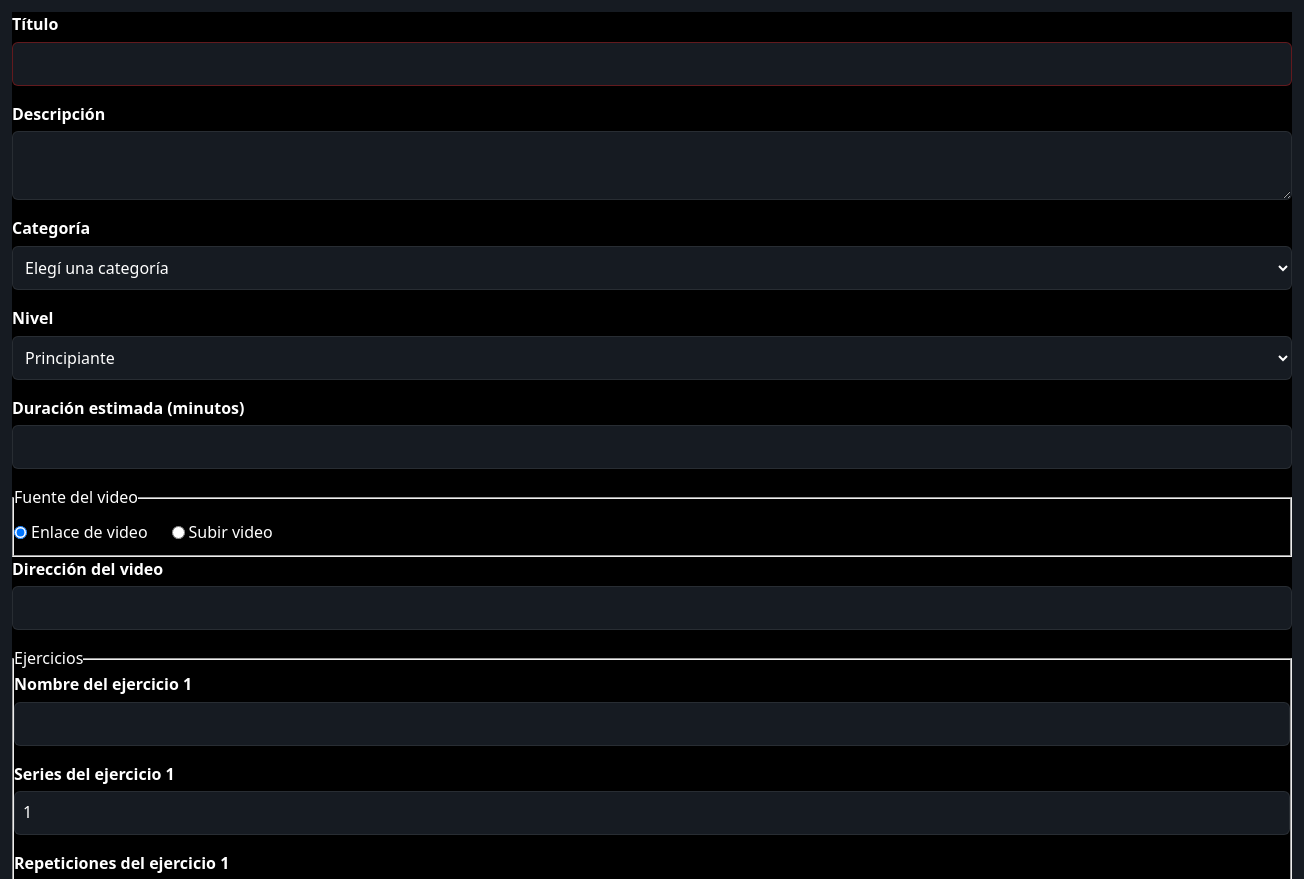
it: FormularioEntrenamiento › Dado el formulario en "Enlace de video" Cuando el Administrador elige "Subir video" Entonces presenta el control de subida y oculta el campo de enlace
Click the radio button labelled "Subir video" at x=178, y=533, box top-left (172, 526), bottom-right (185, 539)
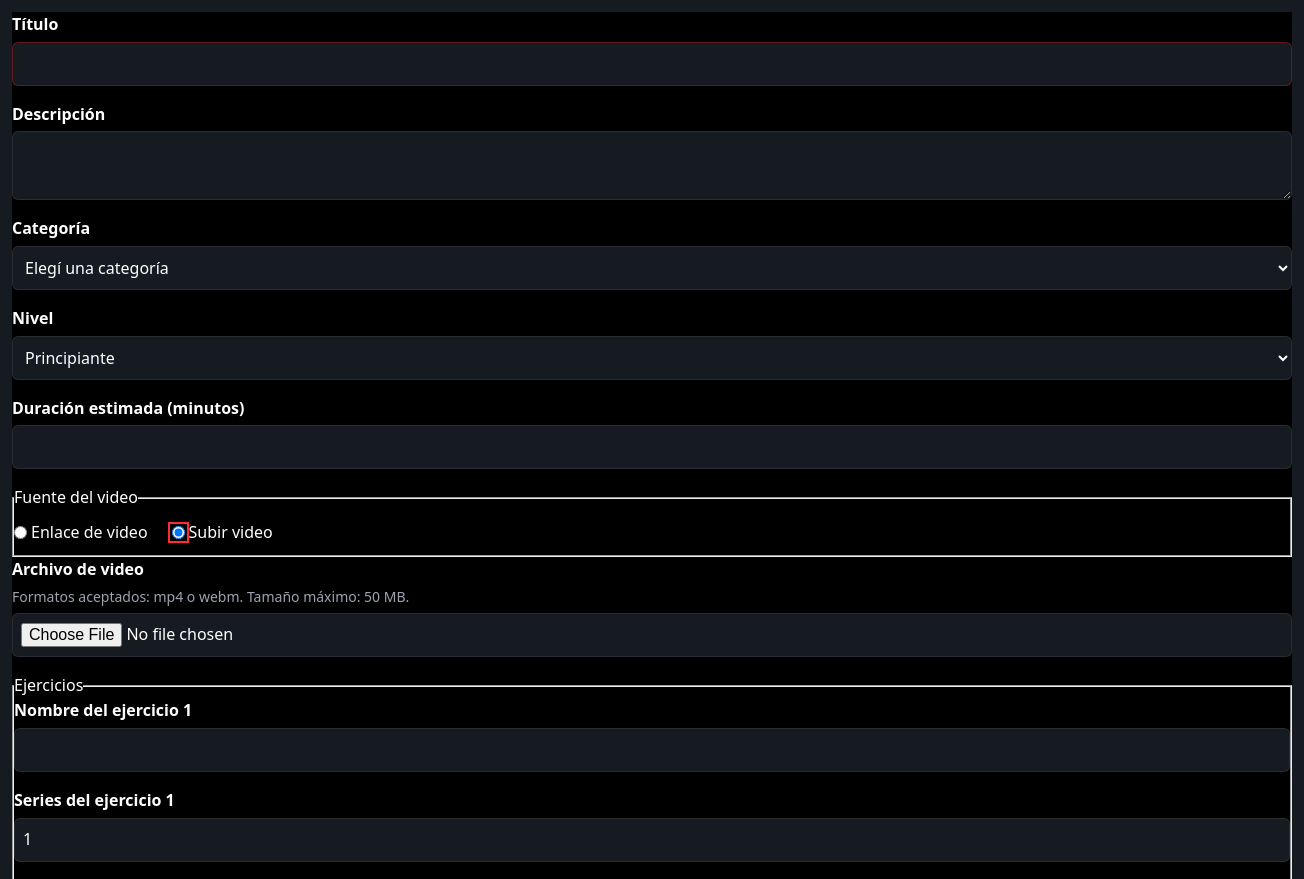
Expected: the file field labelled "Archivo de video" is shown, top-left (12, 613), bottom-right (1292, 657)
Expected: the label labelled "Dirección del video" is gone
